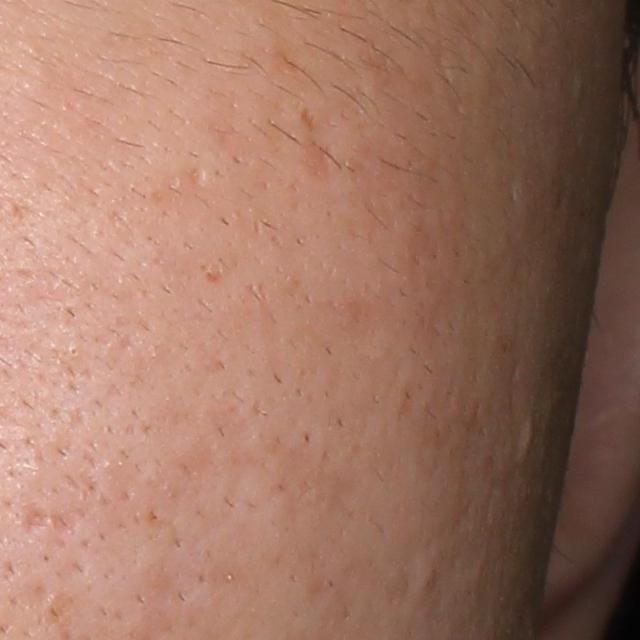atrophic_scar: (188, 160, 207, 184)
